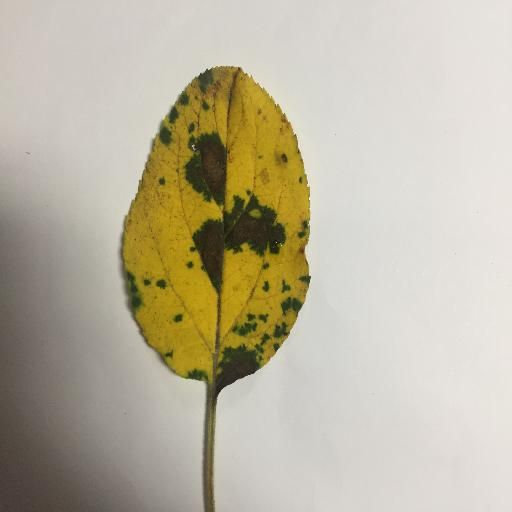Brown_Spot: (176, 208, 286, 272), (183, 133, 228, 197), (205, 348, 266, 387)
